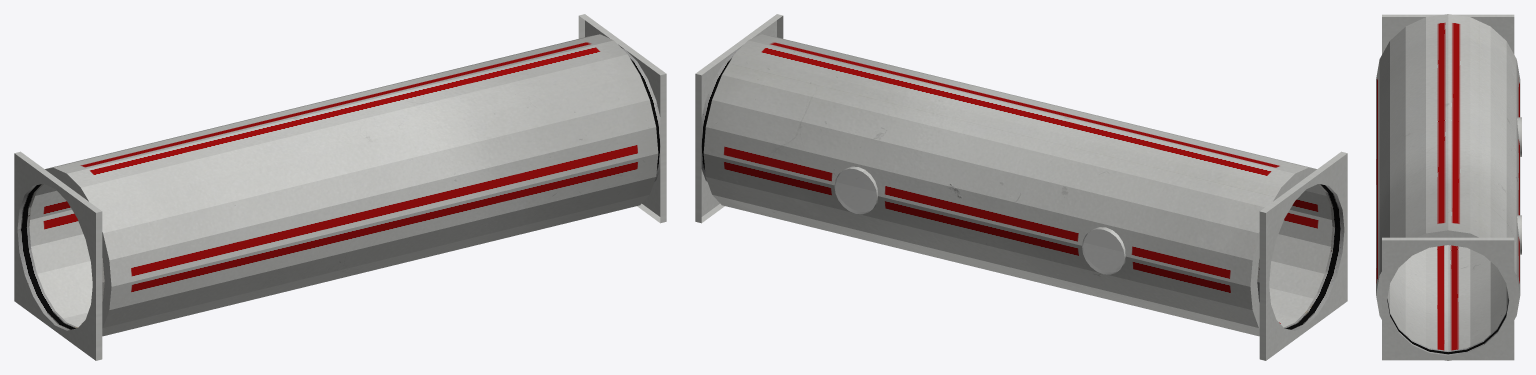
Rendered from HallwayWindow.fbx.
The picture shows the model from 3 angles, left to right: view 1: azimuth 30°, elevation 25°; view 2: azimuth 150°, elevation 25°; view 3: azimuth 270°, elevation 25°; orthographic projection. The views are drawn at different scales.
Visible parts, largest first — view 1: polySurface5; view 2: polySurface5; view 3: polySurface5.
Boxes of the visible parts, x1,y1,x2,y2 form: polySurface5: (14, 14, 666, 360); polySurface5: (695, 14, 1347, 360); polySurface5: (1376, 14, 1521, 360).
Size of the model in its own units: 32.28 by 8.72 by 8.81.
